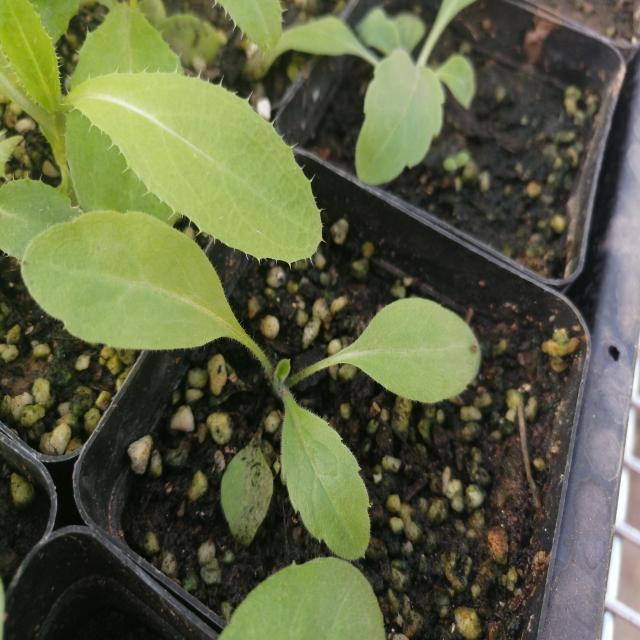horseweed: (45, 220, 468, 546)
